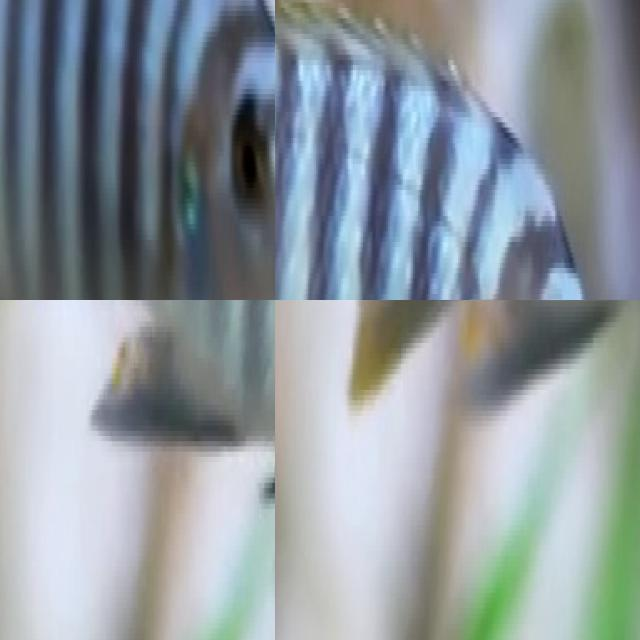fish: (275, 0, 630, 300), (0, 0, 275, 300)
